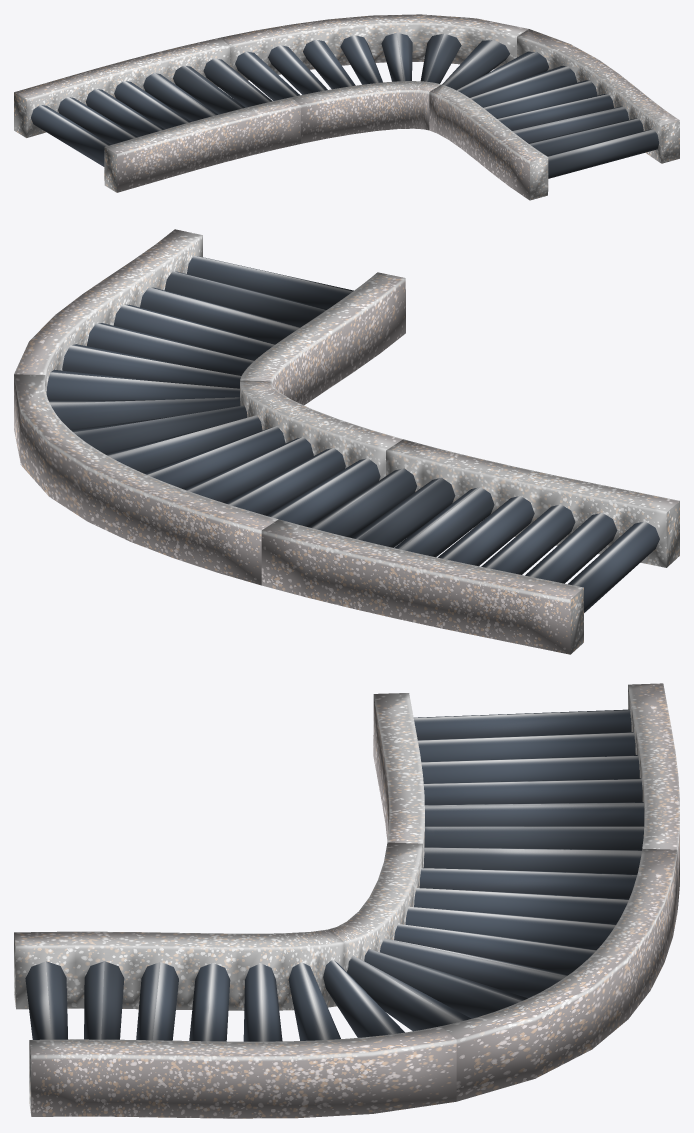
File: CONVERBELT1.fbx
3 renders of one model, top to bottom at view 1: azimuth 30°, elevation 25°; view 2: azimuth 150°, elevation 25°; view 3: azimuth 270°, elevation 25°, orthographic. The views are drawn at different scales.
Visible parts, largest first — view 1: Plane.003; view 2: Plane.003; view 3: Plane.003.
Boxes of the visible parts, x1,y1,x2,y2 form: Plane.003: (14, 14, 679, 200); Plane.003: (14, 229, 679, 654); Plane.003: (14, 683, 679, 1118).
Bounding box in the file's own units: 404 × 31.43 × 305.
